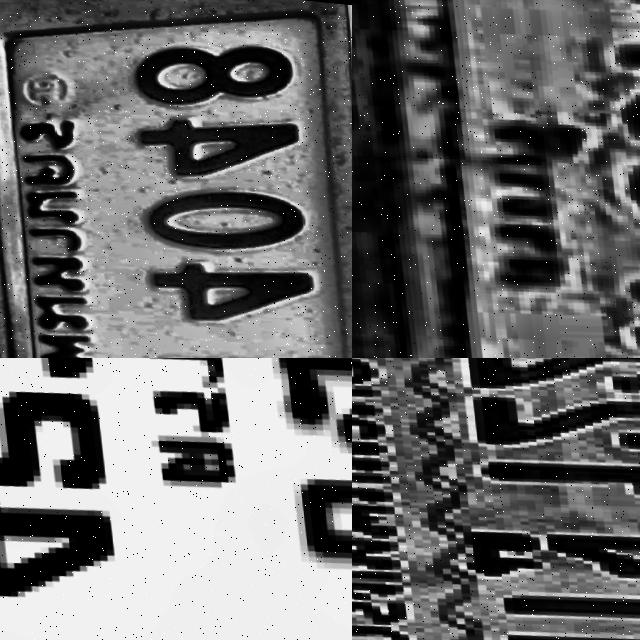license-plate: (0, 0, 352, 358), (0, 358, 352, 640), (384, 0, 640, 358), (352, 358, 640, 640)
